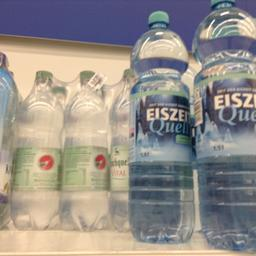water: (191, 0, 254, 255), (128, 10, 195, 244), (5, 70, 64, 224), (60, 70, 110, 228)
